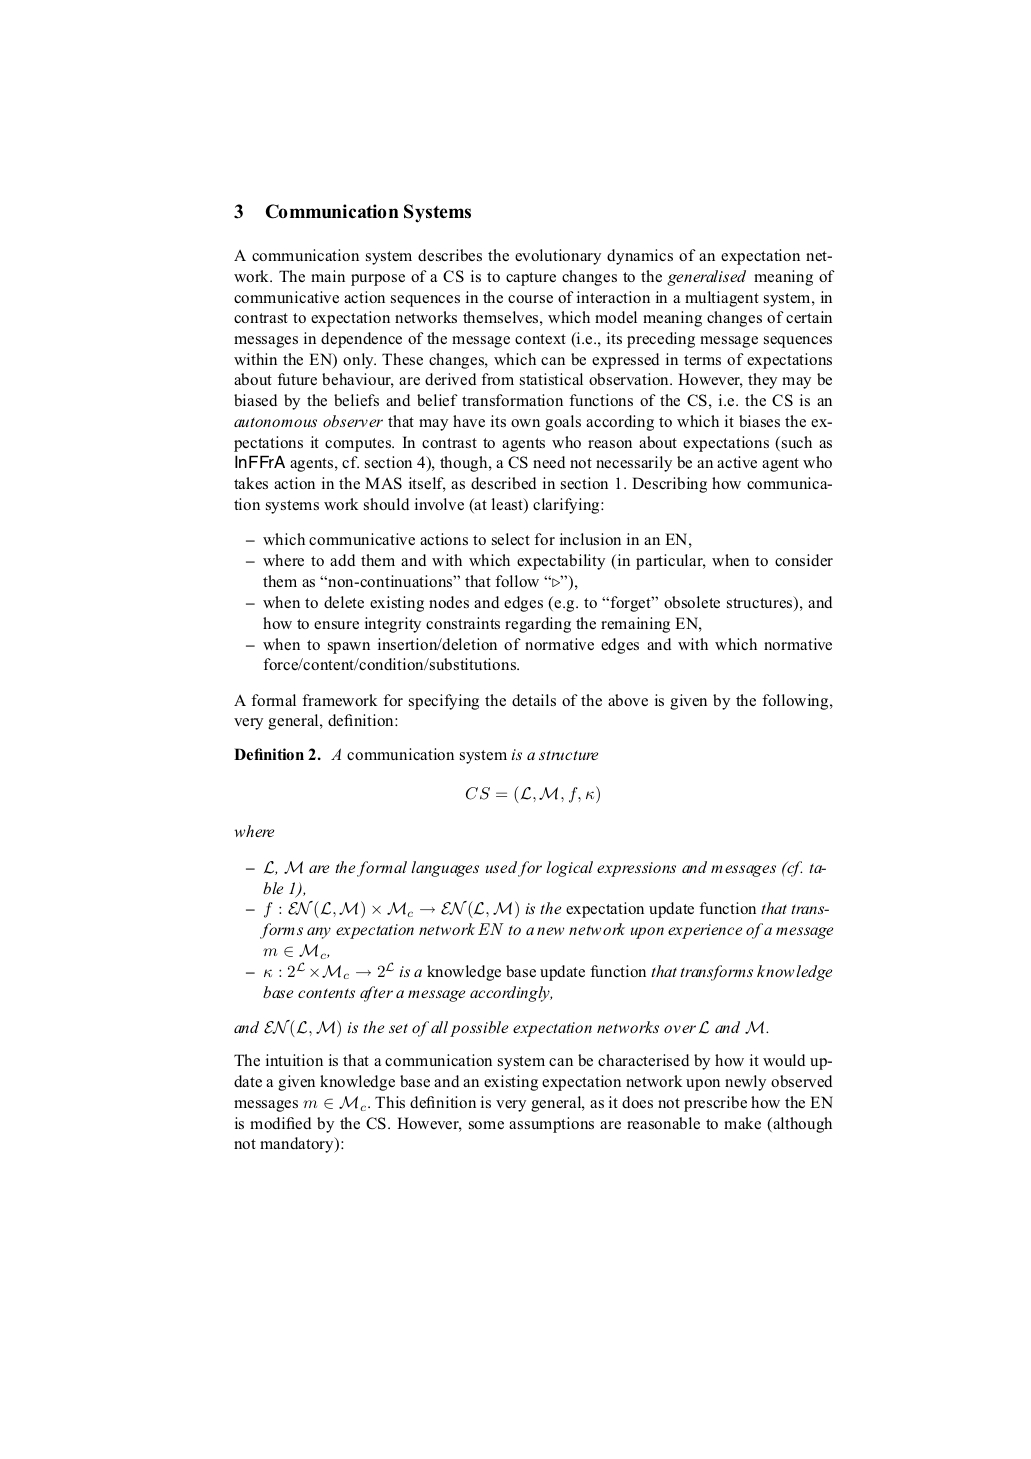formula: (465, 785, 599, 804)
